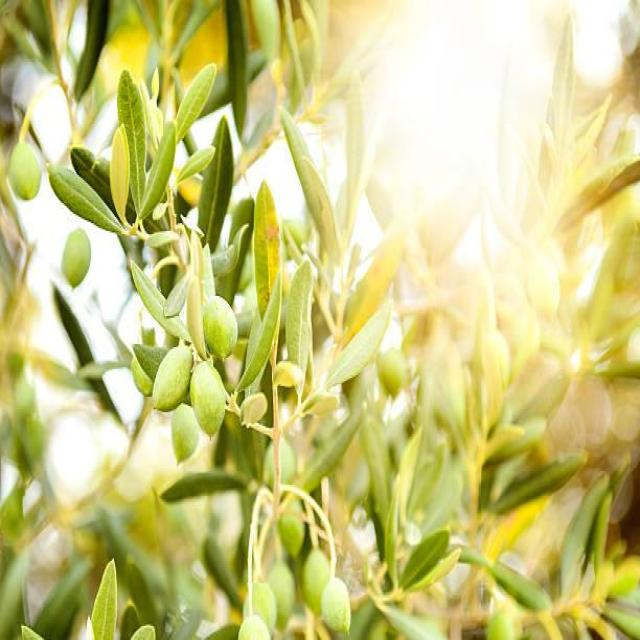Healthy: (190, 361, 226, 435), (153, 346, 191, 411), (5, 139, 42, 200), (204, 296, 237, 358), (62, 228, 90, 287), (321, 578, 349, 632)
Peacock Eye: (254, 181, 279, 316)
